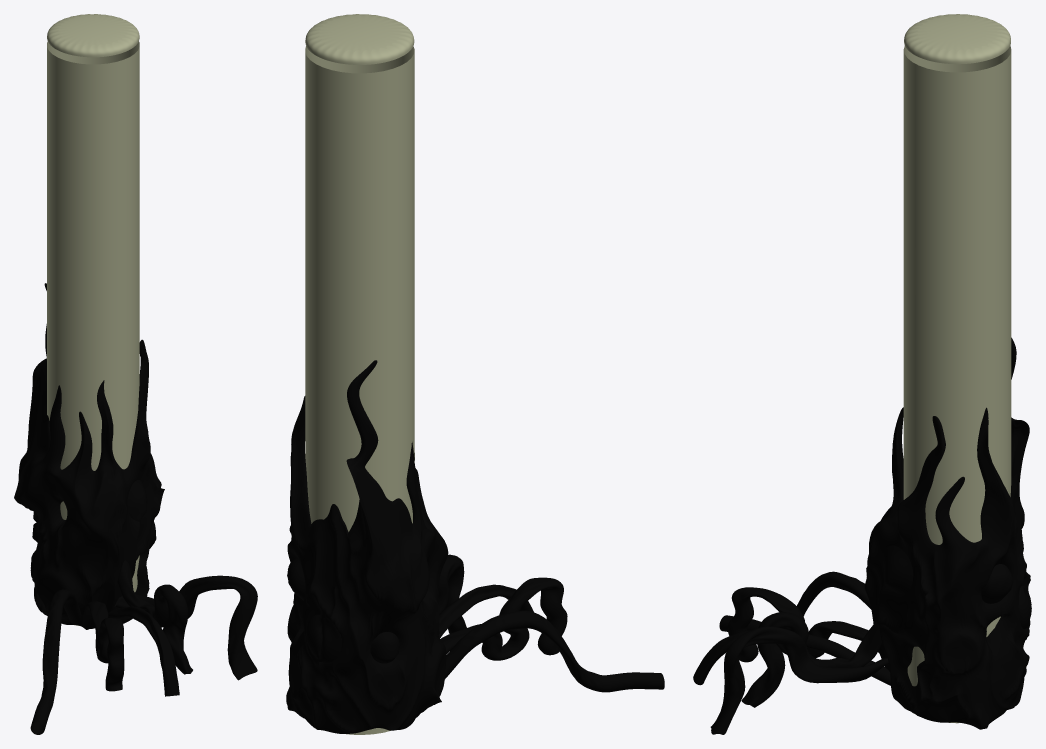
File: torre codigo lyoko.fbx
The picture shows the model from 3 angles, left to right: view 1: azimuth 30°, elevation 25°; view 2: azimuth 150°, elevation 25°; view 3: azimuth 270°, elevation 25°; orthographic projection. The views are drawn at different scales.
Visible parts, largest first — view 1: Cylinder.021; view 2: Cylinder.021; view 3: Cylinder.021.
Part boxes in pixels (box(x1,y1,x2,y2)): Cylinder.021: box(14, 14, 257, 734); Cylinder.021: box(286, 14, 664, 734); Cylinder.021: box(693, 14, 1031, 734).
Bounding box in the file's own units: 566 × 1409 × 629.
